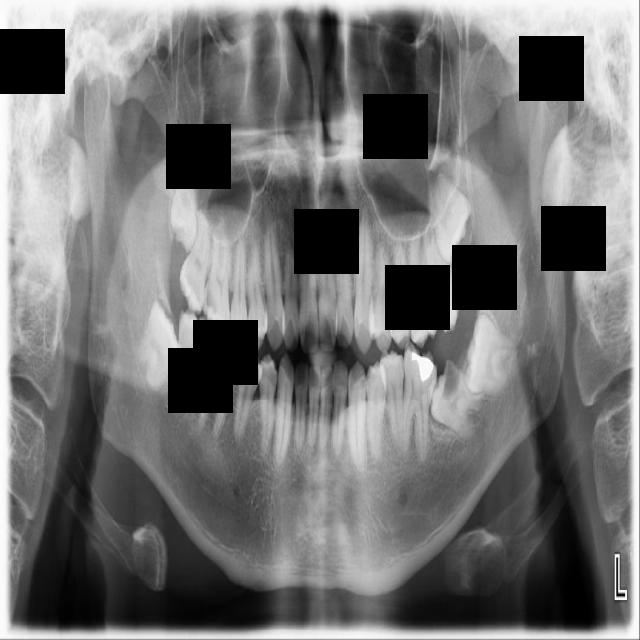3M ESPE Implant: (168, 150, 200, 255)
52: (202, 331, 244, 395), (403, 340, 437, 397), (438, 360, 463, 402), (198, 279, 219, 317)
73: (195, 374, 233, 441), (618, 612, 630, 626)
BioHorizons Implant: (417, 220, 474, 335)
BioLife Implant: (421, 168, 484, 266)
Biomet 3i Implant: (458, 312, 522, 400)
Blue Sky Bio Implant: (414, 358, 503, 445)
Caries: (175, 201, 218, 317)
Implant: (170, 307, 215, 415)
Keystone Dental Implant: (119, 296, 199, 403)
